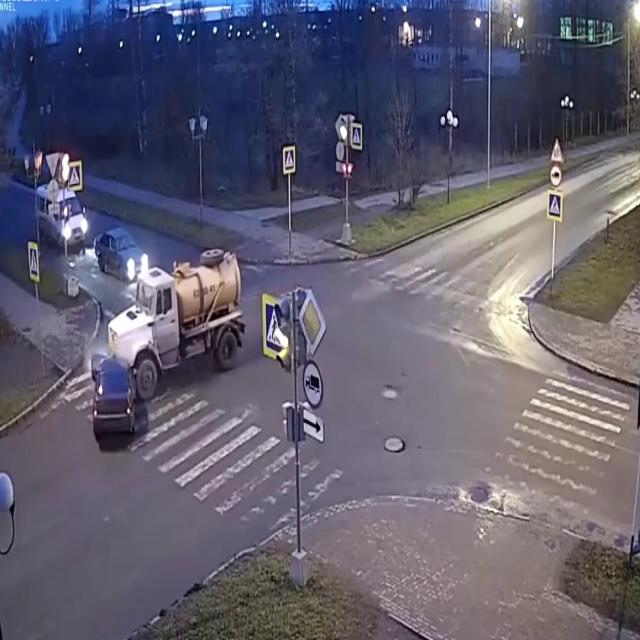accident: (77, 238, 250, 466)
